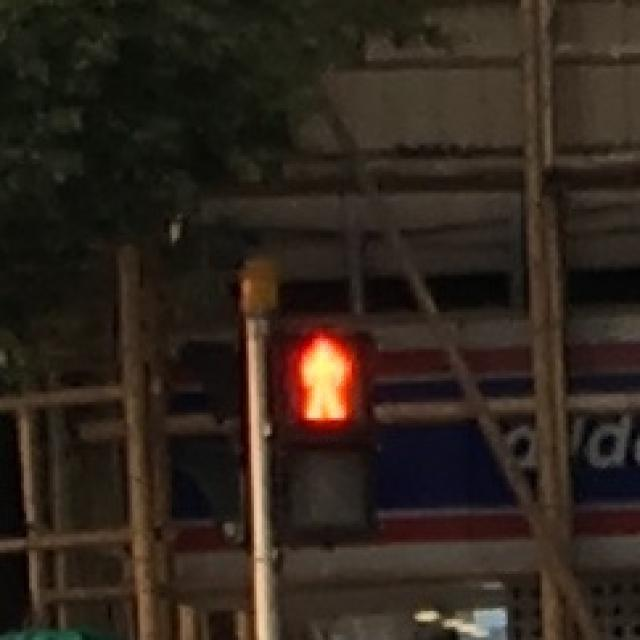red-light: (284, 328, 361, 428)
